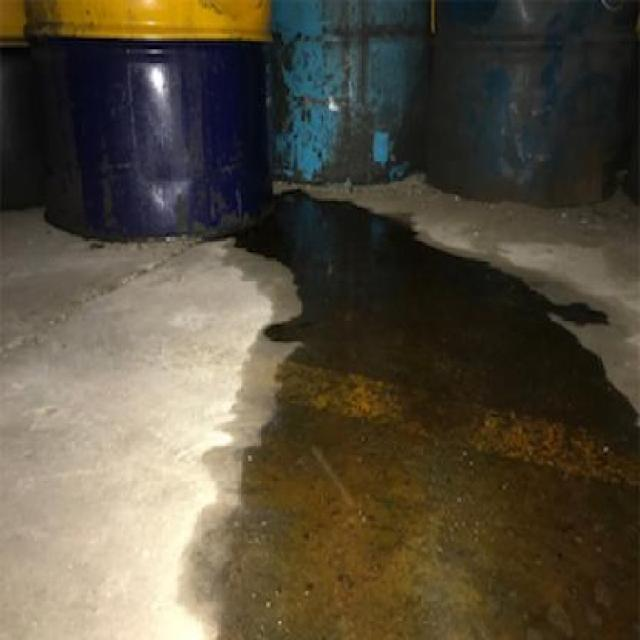spillage: (227, 194, 640, 635)
